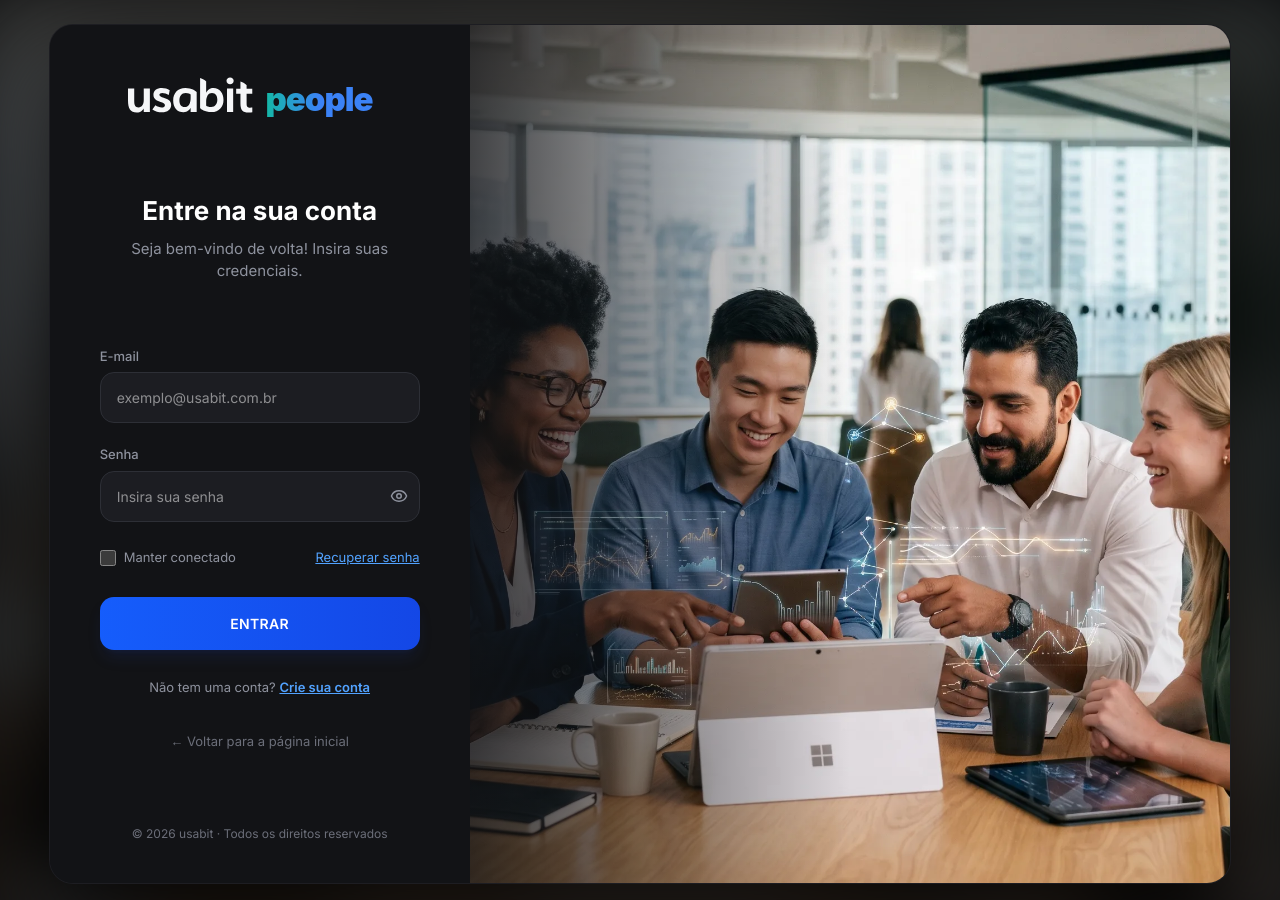
Test case: Login › mostra erro do signInWithPassword
Type "test@test.com" into the field labelled "E-mail" at (260, 398), box [100, 372, 420, 423]
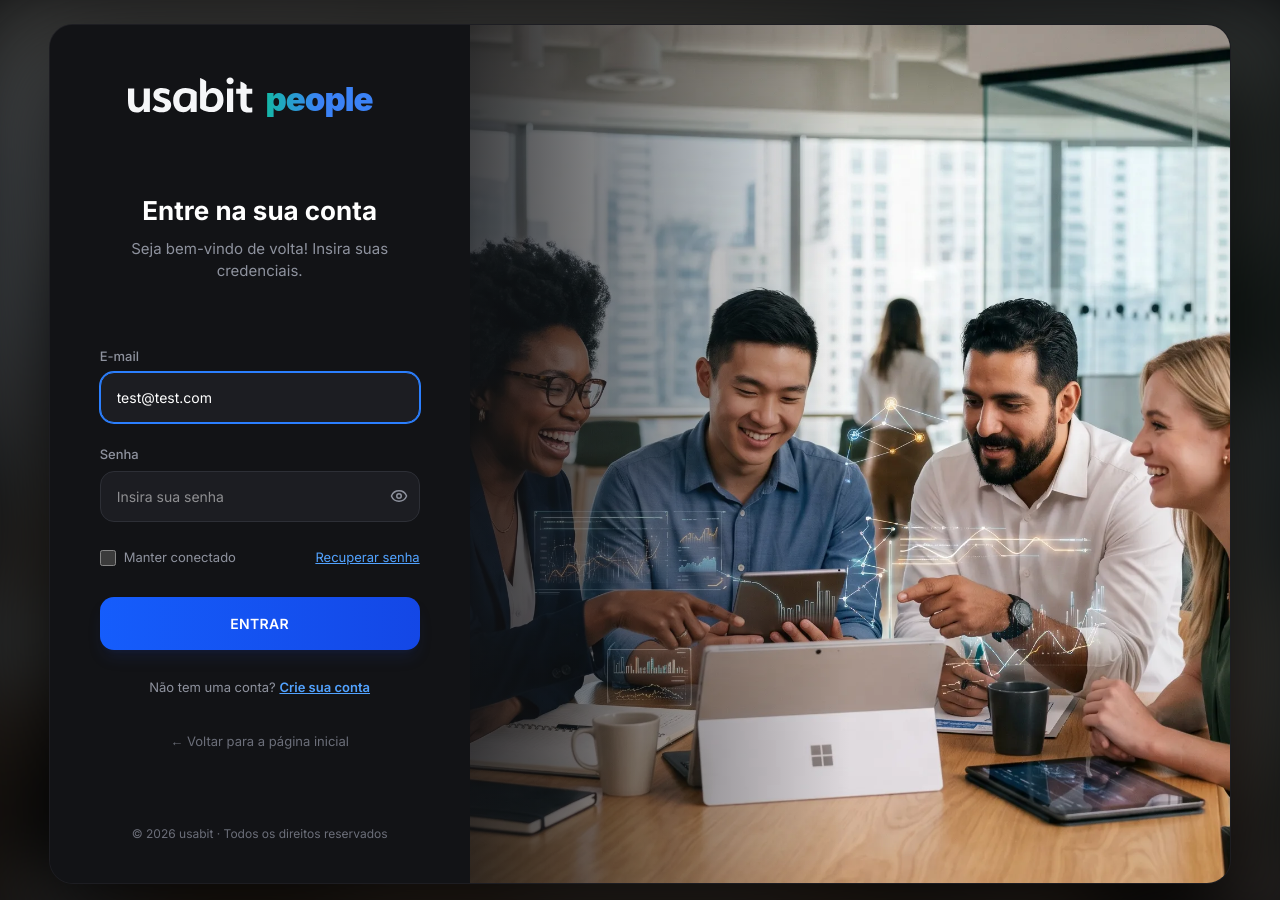
Type "wrong" into the password field labelled "Senha" at (260, 496), box [100, 471, 420, 522]
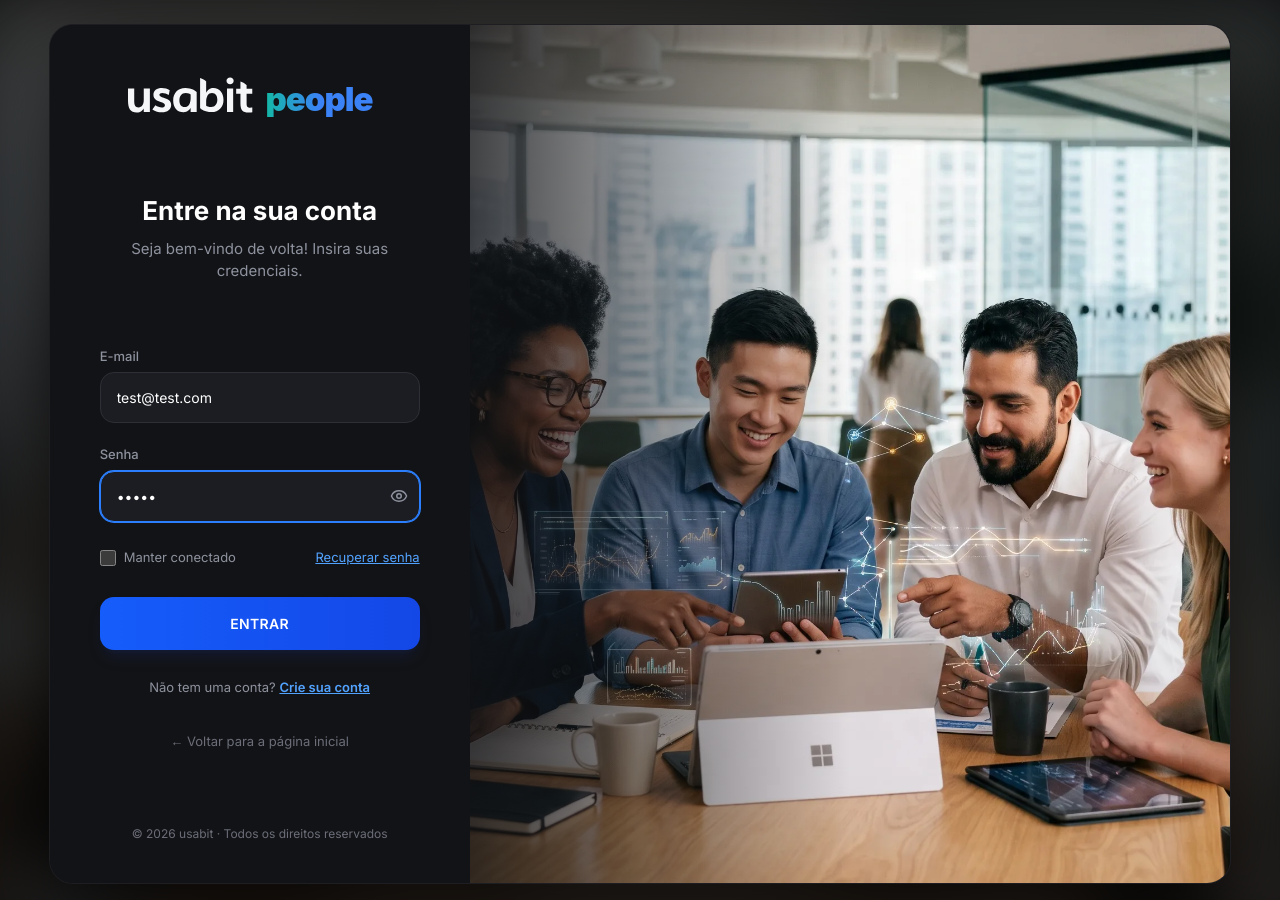
Click the button "ENTRAR" at (260, 624), box [100, 597, 420, 650]
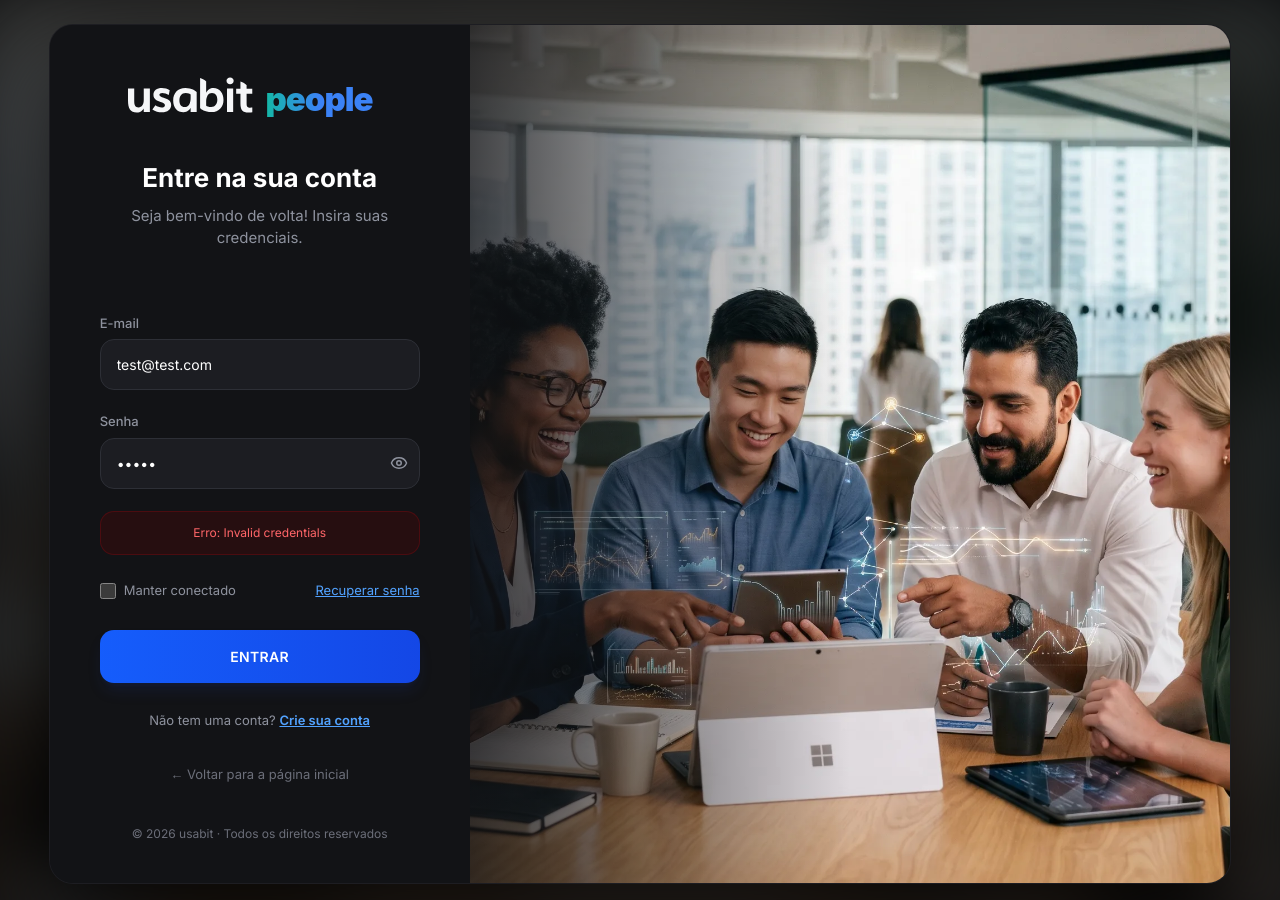
Expected: the text "Erro: Invalid credentials" is shown, [100, 511, 420, 555]
